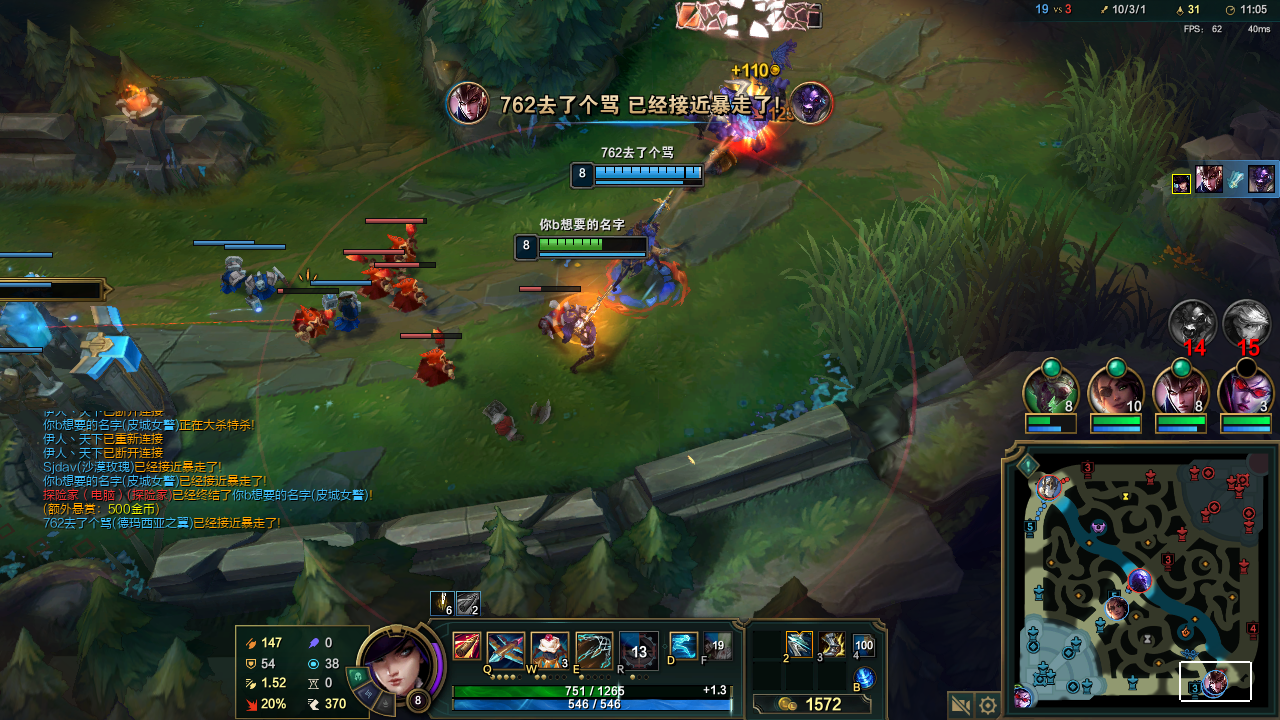DFXB: (412, 345, 451, 376), (391, 278, 427, 311), (384, 234, 415, 270), (357, 269, 390, 300), (294, 310, 331, 335), (542, 309, 572, 337)
WFXB: (331, 294, 362, 330), (245, 267, 279, 296), (221, 261, 247, 287)
